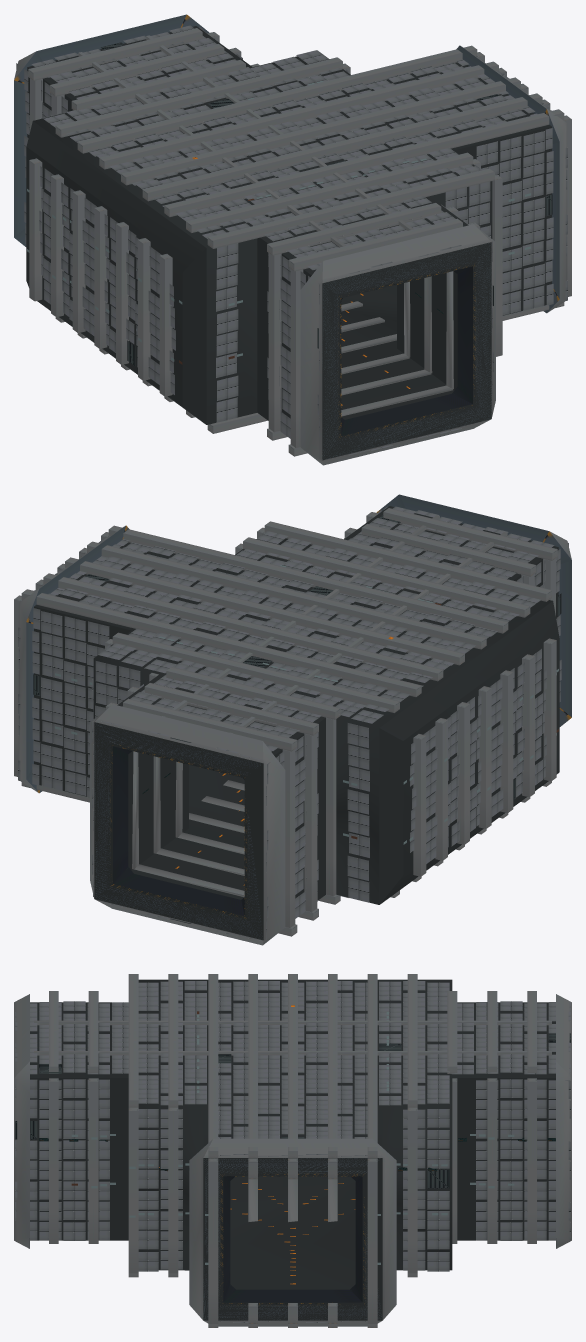
File: kit_tee.glb
The picture shows the model from 3 angles, top to bottom: view 1: azimuth 30°, elevation 25°; view 2: azimuth 150°, elevation 25°; view 3: azimuth 270°, elevation 25°; orthographic projection. The views are drawn at different scales.
Parts seen in each view (by area): view 1: lod0; view 2: lod0; view 3: lod0.
Boxes of the visible parts, x1,y1,x2,y2 form: lod0: (14,14,571,465); lod0: (14,494,571,945); lod0: (14,974,571,1327).
Size of what is drawn, in the model's own units: 228 by 104 by 280.
Materials: 1 (1 with a texture image).
